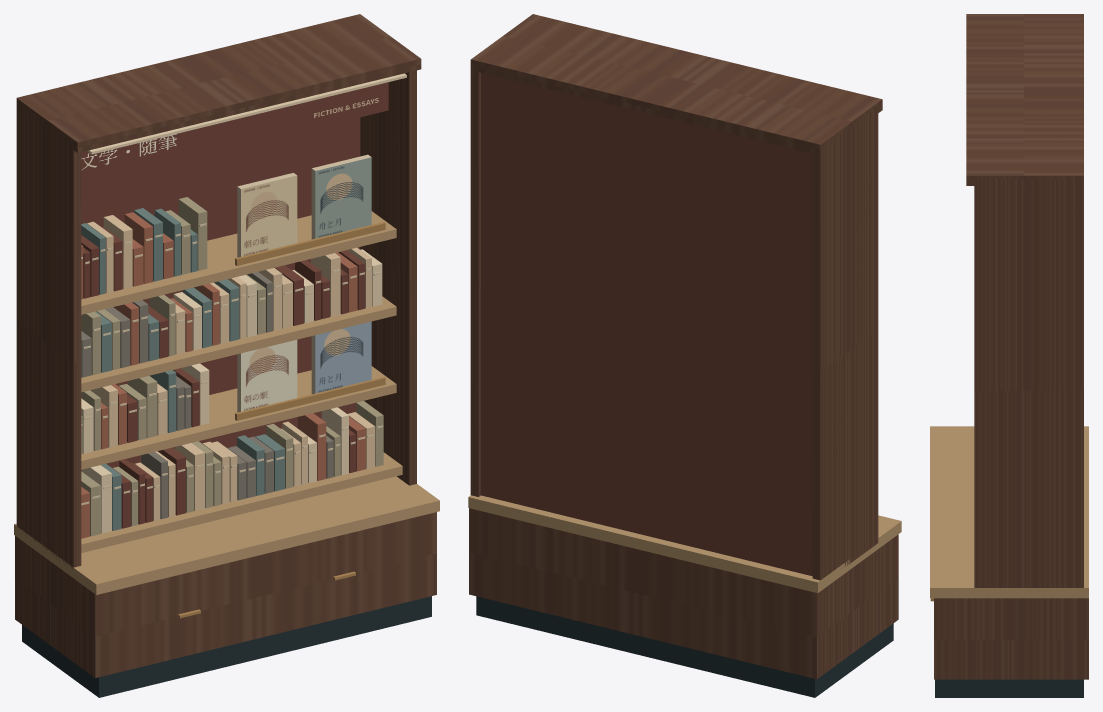
File: orienne_press_0.glb
3 renders of one model, left to right at view 1: azimuth 30°, elevation 25°; view 2: azimuth 150°, elevation 25°; view 3: azimuth 270°, elevation 25°, orthographic. The views are drawn at different scales.
Size of the model in its own units: 1.95 by 2.95 by 0.81.
1 material, 1 textured.
